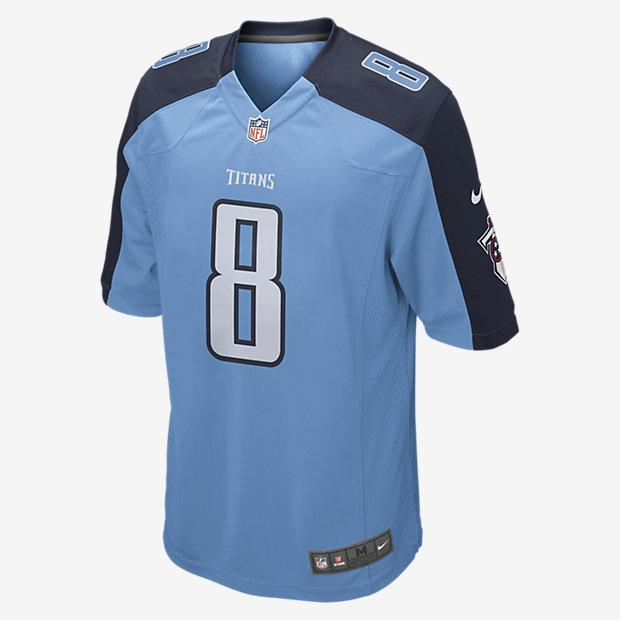teeshirt: (88, 13, 525, 602)
